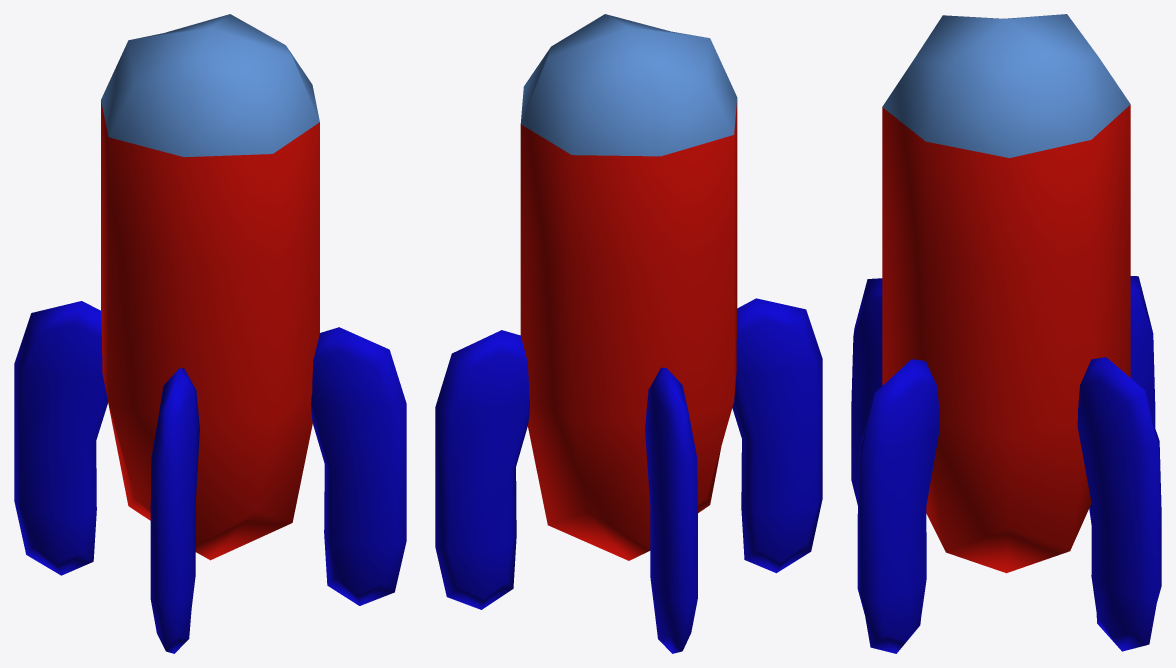
File: Rocket.fbx
The picture shows the model from 3 angles, left to right: view 1: azimuth 30°, elevation 25°; view 2: azimuth 150°, elevation 25°; view 3: azimuth 270°, elevation 25°; orthographic projection. The views are drawn at different scales.
Parts seen in each view (by area): view 1: Cube.001; view 2: Cube.001; view 3: Cube.001.
Part boxes in pixels (x1,y1,x2,y2): Cube.001: (14,14,406,653); Cube.001: (435,14,822,653); Cube.001: (851,14,1161,653).
Size of the model in its own units: 55.4 by 115 by 55.4.
